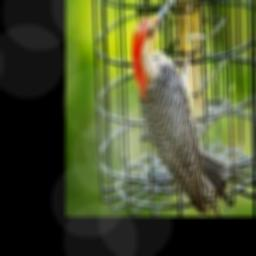Woodpecker: (132, 0, 228, 215)
